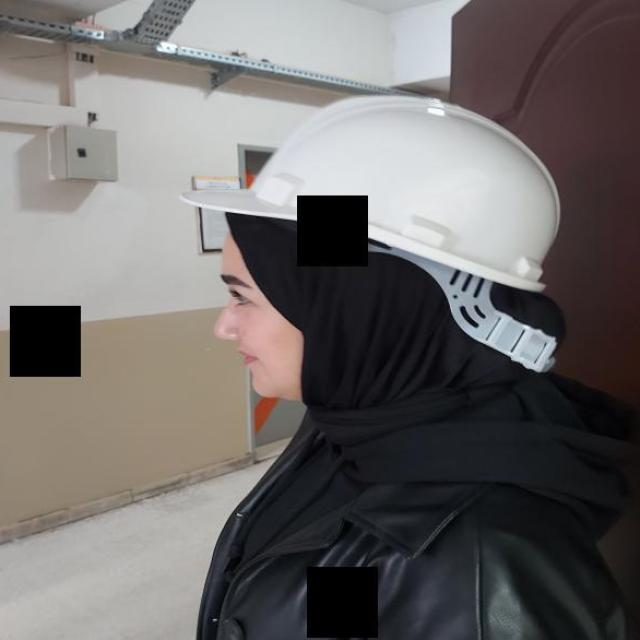helmet: (178, 91, 561, 292)
